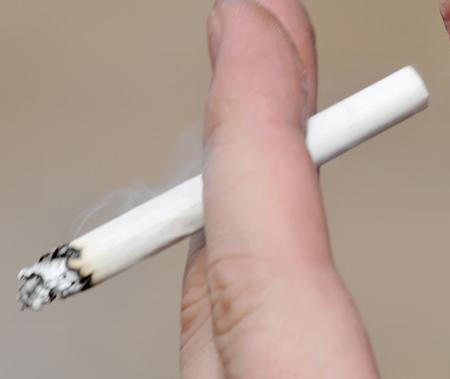smoke: (16, 60, 431, 313)
